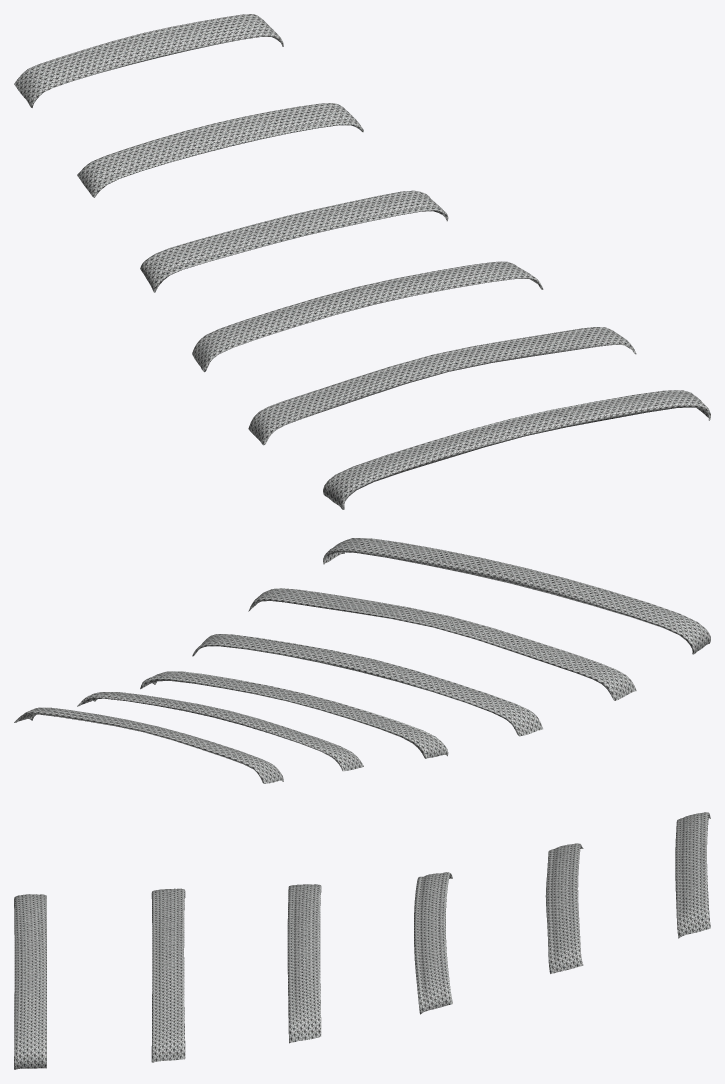
Rendered from 378_Ribs-f96804b2.glb.
3 views of the same model, one above another, from view 1: azimuth 30°, elevation 25°; view 2: azimuth 150°, elevation 25°; view 3: azimuth 270°, elevation 25° (orthographic). The views are drawn at different scales.
Visible parts, largest first — view 1: Ribs; view 2: Ribs; view 3: Ribs.
Boxes of the visible parts, x1,y1,x2,y2 form: Ribs: [14, 14, 710, 509]; Ribs: [14, 538, 710, 783]; Ribs: [14, 812, 710, 1069].
Bounding box in the file's own units: 0.225 × 0.0864 × 0.4037.
Materials: 6 (6 with a texture image).
